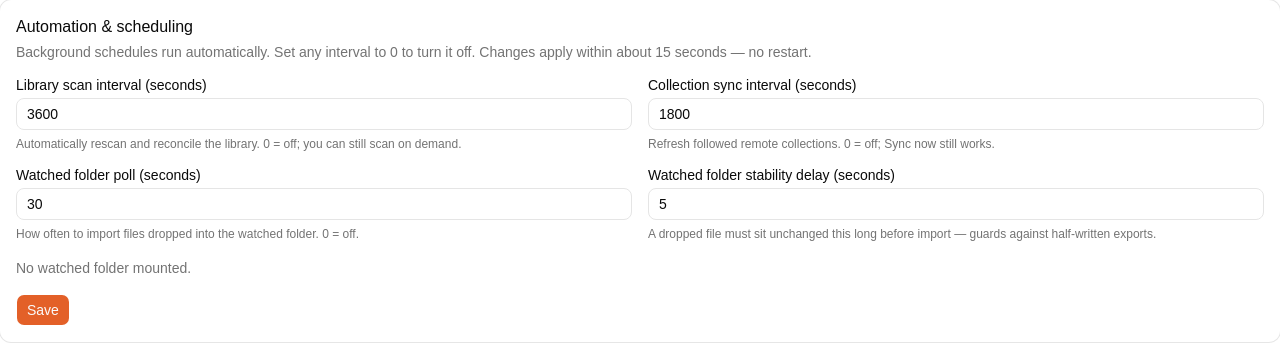
it: AutomationCard › M2: blocks save and shows an inline error when a field is cleared, instead of silently saving 0
Clear the number field labelled "Library scan interval (seconds)" at [324, 114], box x1=16 y1=98 x2=632 y2=130
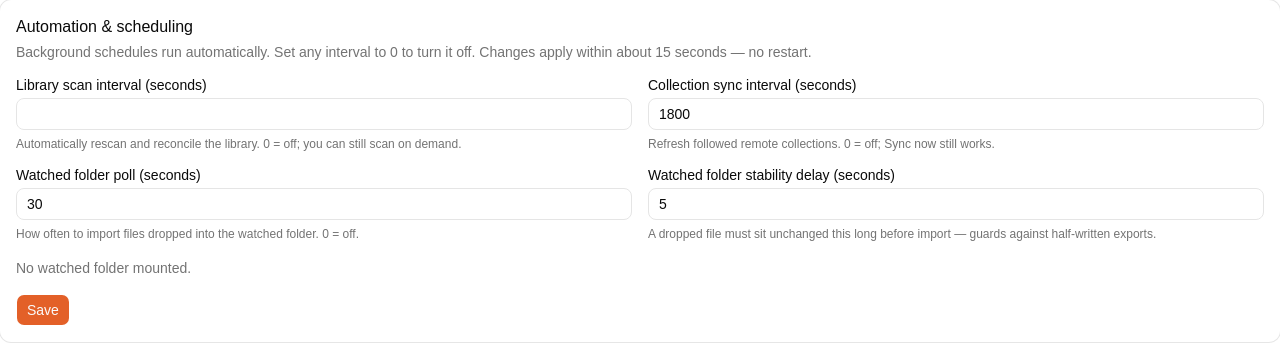
Click the button "Save" at [43, 310], box x1=16 y1=294 x2=70 y2=326
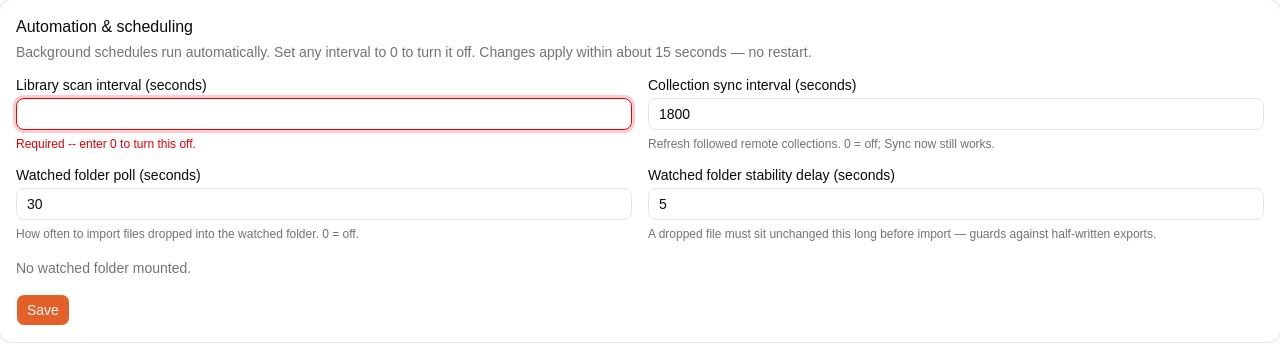
Check: the message reads "Required -- enter 0 to turn this off.", box x1=16 y1=137 x2=196 y2=151
